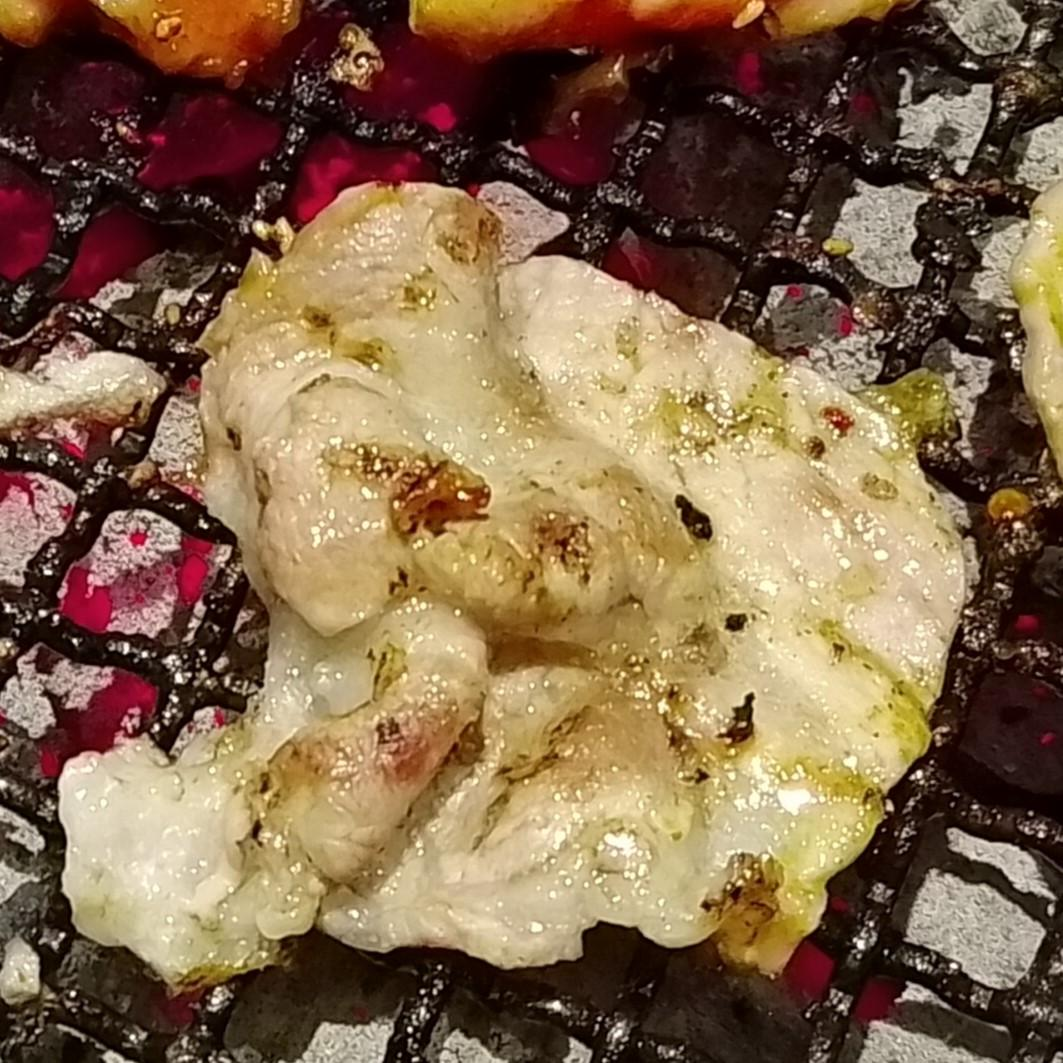Well-Cooked: (58, 182, 971, 993)
